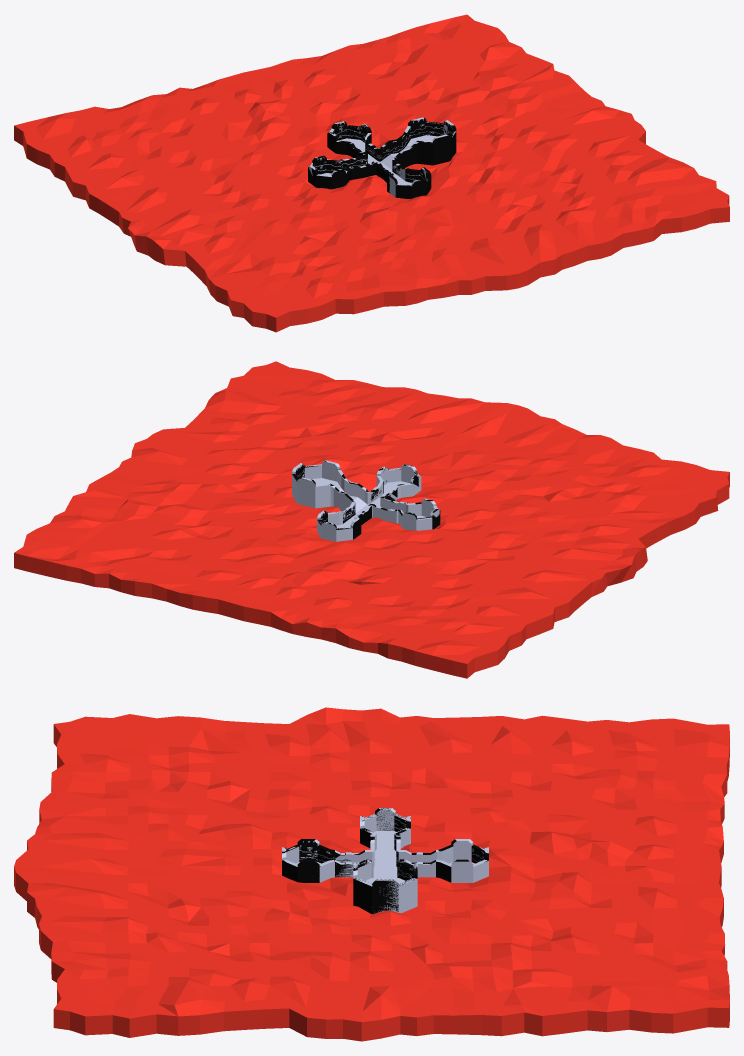
The model's file is Base 1+Environment.FBX.
3 views of the same model, one above another, from view 1: azimuth 30°, elevation 25°; view 2: azimuth 150°, elevation 25°; view 3: azimuth 270°, elevation 25° (orthographic). The views are drawn at different scales.
Parts seen in each view (by area): view 1: OutdoorTerrain, Walls, Chamfer4; view 2: OutdoorTerrain, Chamfer4, Walls; view 3: OutdoorTerrain, Chamfer4, Walls.
Boxes of the visible parts, box(x1,y1,x2,y2) form: OutdoorTerrain: box(14, 14, 729, 332); Walls: box(308, 117, 456, 198); Chamfer4: box(308, 117, 455, 197); OutdoorTerrain: box(14, 361, 729, 678); Chamfer4: box(292, 460, 439, 541); Walls: box(292, 460, 440, 539); OutdoorTerrain: box(14, 707, 729, 1041); Chamfer4: box(282, 808, 488, 913); Walls: box(282, 808, 488, 913).
Size of the model in its own units: 13116 by 1043 by 12716.
